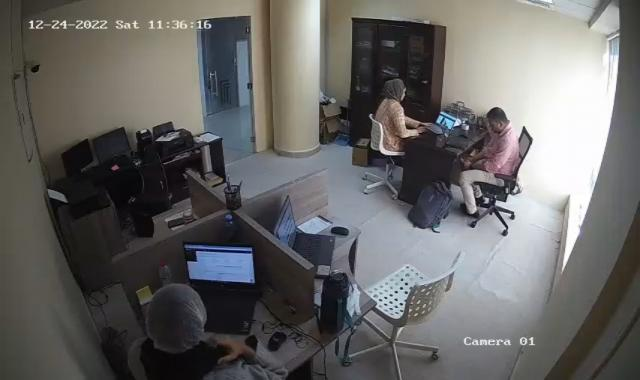hairnet: (148, 284, 207, 356)
no_hairnet: (384, 76, 409, 105), (485, 104, 508, 131)
